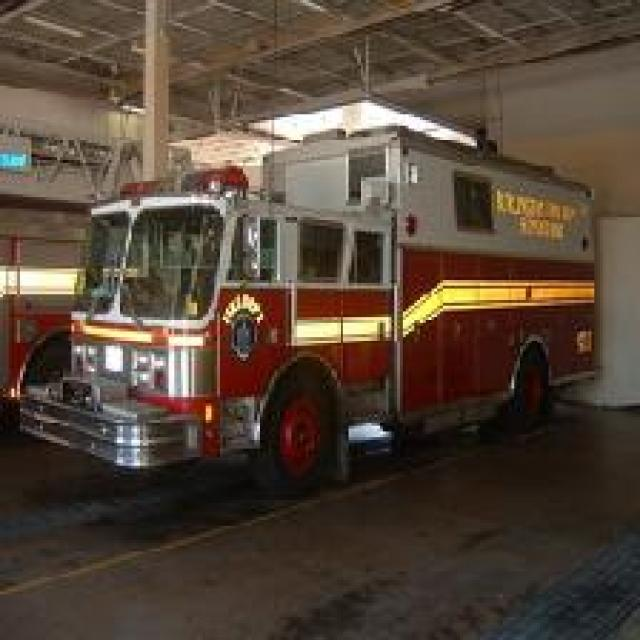Fire-truck: (14, 120, 597, 494)
